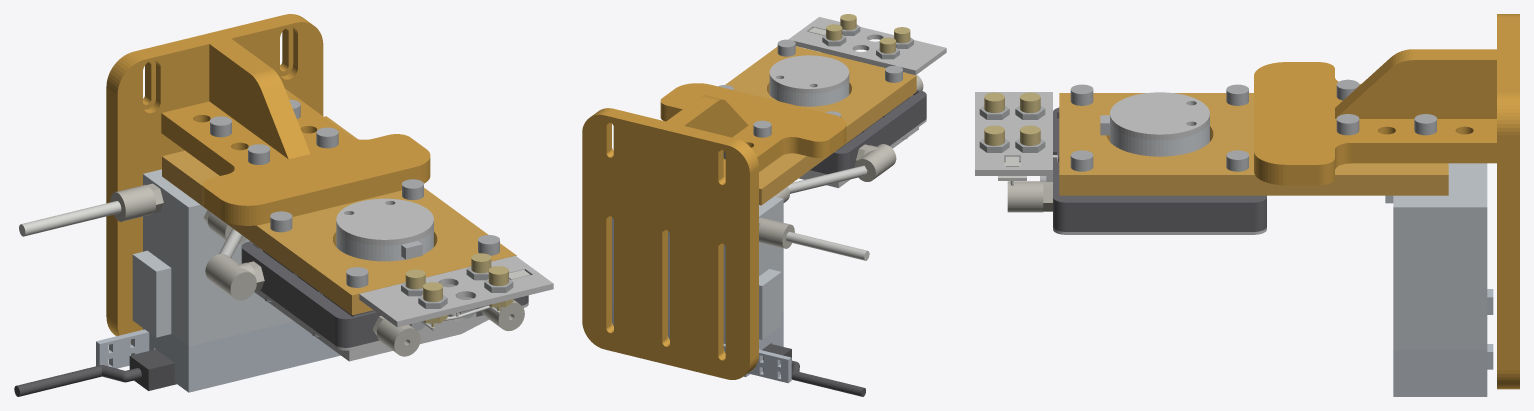
Rendered from v48_single.glb.
3 renders of one model, left to right at view 1: azimuth 30°, elevation 25°; view 2: azimuth 150°, elevation 25°; view 3: azimuth 270°, elevation 25°, orthographic. The views are drawn at different scales.
Parts seen in each view (by area): view 1: Grace 2025 앵글 브래킷 "angle bracket for Ramen holder.STEP" (형상 , [배기 블록 v2] 배기 센서 블록 본체 PETG 60x29x48.5 (가스 몸 17.5 + 센서 칸 31,, Grace 새 세로판 60x120x7 (재출력, 레진 가정), Ø4.5 x4 48x48, 가운데 Ø33 구멍, [배기 블록 v2] 덮개 PETG 60x29x16 (판 2 + Pico 트레이 14): Pico 보스 4, , 커넥터 브래킷 Al (밑판 26x18x2 + 판 57x24x2): SMA 구멍 Ø6.5 x6 (3열 x 2행, 셀 몸체 Al 6061 흑색 아노다이징 70x66x10 R4 (포켓 31x31x4.5 R1.5, 블록 자리 , 퍽 Al 방열 원판 Ø30.8x2 (가정, PETG 벽 끝에 2액형 에폭시), 나사 공구 구멍 Ø3.2 x2, [배기 블록 v2] USB 케이블 (노트북으로, 타이로 선반에 고정; 노트북은 허치 안 가능), 가스 KQ2H04-M5 x2 윗면 (+X 입구, −X 예비 N2/He), Ø2 → 앞면 (±19, +22), 텐트 틀 Al: 플랜지 1.0 (몸체 외곽, 안쪽 X -28.5…24.9, Z ±28.5) + 벽 2.5, , 가스 KQ2L04-M5 엘보 −X 옆면 출구 (Y 4.5, Z -20, 관 포트 아래로; 외형 가정), Ø2, SMA 암 판넬 잭 x4 (SAMZO SMA-KY-214형, 가정): 육각 어깨 AF 8 x 3 (판 앞), (+6 smaller); view 2: Grace 2025 앵글 브래킷 "angle bracket for Ramen holder.STEP" (형상 , Grace 새 세로판 60x120x7 (재출력, 레진 가정), Ø4.5 x4 48x48, 가운데 Ø33 구멍, 커넥터 브래킷 Al (밑판 26x18x2 + 판 57x24x2): SMA 구멍 Ø6.5 x6 (3열 x 2행, [배기 블록 v2] 배기 센서 블록 본체 PETG 60x29x48.5 (가스 몸 17.5 + 센서 칸 31,, 셀 몸체 Al 6061 흑색 아노다이징 70x66x10 R4 (포켓 31x31x4.5 R1.5, 블록 자리 , 퍽 Al 방열 원판 Ø30.8x2 (가정, PETG 벽 끝에 2액형 에폭시), 나사 공구 구멍 Ø3.2 x2, [배기 블록 v2] 덮개 PETG 60x29x16 (판 2 + Pico 트레이 14): Pico 보스 4, , 뒤 빛 퍽 PETG Ø30.8 (앞 플랜지 2 = 앞 턱 0.5 (Ø19) + 뒤 자리 Ø20.4x1.5, , [배기 블록 v2] USB 케이블 (노트북으로, 타이로 선반에 고정; 노트북은 허치 안 가능), 가스 KQ2L04-M5 엘보 −X 옆면 출구 (Y 4.5, Z -20, 관 포트 아래로; 외형 가정), Ø2, SMA 암 판넬 잭 x4 (SAMZO SMA-KY-214형, 가정): 육각 어깨 AF 8 x 3 (판 앞),, [배기 블록 v2] 배출 PU 관 Ø4 (토막만 그림, 실제 >= 300 mm) (+6 smaller); view 3: Grace 2025 앵글 브래킷 "angle bracket for Ramen holder.STEP" (형상 , Grace 새 세로판 60x120x7 (재출력, 레진 가정), Ø4.5 x4 48x48, 가운데 Ø33 구멍, [배기 블록 v2] 배기 센서 블록 본체 PETG 60x29x48.5 (가스 몸 17.5 + 센서 칸 31,, 셀 몸체 Al 6061 흑색 아노다이징 70x66x10 R4 (포켓 31x31x4.5 R1.5, 블록 자리 , [배기 블록 v2] 덮개 PETG 60x29x16 (판 2 + Pico 트레이 14): Pico 보스 4, , 커넥터 브래킷 Al (밑판 26x18x2 + 판 57x24x2): SMA 구멍 Ø6.5 x6 (3열 x 2행, 퍽 Al 방열 원판 Ø30.8x2 (가정, PETG 벽 끝에 2액형 에폭시), 나사 공구 구멍 Ø3.2 x2, M4x12 렌치볼트 x4 (판 뒤에서 몸체 M4 탭으로, 머리 Ø7x4), 뒤 빛 퍽 PETG Ø30.8 (앞 플랜지 2 = 앞 턱 0.5 (Ø19) + 뒤 자리 Ø20.4x1.5, , SMA 암 판넬 잭 x4 (SAMZO SMA-KY-214형, 가정): 육각 어깨 AF 8 x 3 (판 앞),, 가스 KQ2H04-M5 x2 윗면 (+X 입구, −X 예비 N2/He), Ø2 → 앞면 (±19, +22), M4x16 볼트 + 너트 x4 (판 아래 구멍 ↔ 브래킷 세움판 Ø5.6 구멍 y 29/53) (+2 smaller).
Boxes of the visible parts, bbox=[...] form: Grace 2025 앵글 브래킷 "angle bracket for Ramen holder.STEP" (형상 : bbox=[106, 14, 430, 343]; [배기 블록 v2] 배기 센서 블록 본체 PETG 60x29x48.5 (가스 몸 17.5 + 센서 칸 31,: bbox=[132, 169, 293, 346]; Grace 새 세로판 60x120x7 (재출력, 레진 가정), Ø4.5 x4 48x48, 가운데 Ø33 구멍: bbox=[162, 116, 516, 315]; [배기 블록 v2] 덮개 PETG 60x29x16 (판 2 + Pico 트레이 14): Pico 보스 4, : bbox=[96, 321, 340, 392]; 커넥터 브래킷 Al (밑판 26x18x2 + 판 57x24x2): SMA 구멍 Ø6.5 x6 (3열 x 2행: bbox=[359, 255, 553, 333]; 셀 몸체 Al 6061 흑색 아노다이징 70x66x10 R4 (포켓 31x31x4.5 R1.5, 블록 자리 : bbox=[241, 241, 528, 347]; 퍽 Al 방열 원판 Ø30.8x2 (가정, PETG 벽 끝에 2액형 에폭시), 나사 공구 구멍 Ø3.2 x2: bbox=[336, 198, 433, 245]; [배기 블록 v2] USB 케이블 (노트북으로, 타이로 선반에 고정; 노트북은 허치 안 가능): bbox=[14, 349, 176, 396]; 가스 KQ2H04-M5 x2 윗면 (+X 입구, −X 예비 N2/He), Ø2 → 앞면 (±19, +22): bbox=[372, 299, 524, 356]; 텐트 틀 Al: 플랜지 1.0 (몸체 외곽, 안쪽 X -28.5…24.9, Z ±28.5) + 벽 2.5, : bbox=[254, 290, 528, 361]; 가스 KQ2L04-M5 엘보 −X 옆면 출구 (Y 4.5, Z -20, 관 포트 아래로; 외형 가정), Ø2: bbox=[205, 254, 264, 300]; SMA 암 판넬 잭 x4 (SAMZO SMA-KY-214형, 가정): 육각 어깨 AF 8 x 3 (판 앞),: bbox=[405, 253, 513, 327]; Grace 2025 앵글 브래킷 "angle bracket for Ramen holder.STEP" (형상 : bbox=[582, 83, 846, 379]; Grace 새 세로판 60x120x7 (재출력, 레진 가정), Ø4.5 x4 48x48, 가운데 Ø33 구멍: bbox=[725, 46, 916, 205]; 커넥터 브래킷 Al (밑판 26x18x2 + 판 57x24x2): SMA 구멍 Ø6.5 x6 (3열 x 2행: bbox=[788, 17, 946, 75]; [배기 블록 v2] 배기 센서 블록 본체 PETG 60x29x48.5 (가스 몸 17.5 + 센서 칸 31,: bbox=[612, 196, 783, 339]; 셀 몸체 Al 6061 흑색 아노다이징 70x66x10 R4 (포켓 31x31x4.5 R1.5, 블록 자리 : bbox=[810, 89, 926, 174]; 퍽 Al 방열 원판 Ø30.8x2 (가정, PETG 벽 끝에 2액형 에폭시), 나사 공구 구멍 Ø3.2 x2: bbox=[769, 55, 849, 93]; [배기 블록 v2] 덮개 PETG 60x29x16 (판 2 + Pico 트레이 14): Pico 보스 4, : bbox=[612, 307, 791, 383]; 뒤 빛 퍽 PETG Ø30.8 (앞 플랜지 2 = 앞 턱 0.5 (Ø19) + 뒤 자리 Ø20.4x1.5, : bbox=[769, 78, 849, 106]; [배기 블록 v2] USB 케이블 (노트북으로, 타이로 선반에 고정; 노트북은 허치 안 가능): bbox=[762, 344, 865, 396]; 가스 KQ2L04-M5 엘보 −X 옆면 출구 (Y 4.5, Z -20, 관 포트 아래로; 외형 가정), Ø2: bbox=[854, 144, 896, 181]; SMA 암 판넬 잭 x4 (SAMZO SMA-KY-214형, 가정): 육각 어깨 AF 8 x 3 (판 앞),: bbox=[826, 14, 910, 67]; [배기 블록 v2] 배출 PU 관 Ø4 (토막만 그림, 실제 >= 300 mm): bbox=[786, 231, 869, 260]; Grace 2025 앵글 브래킷 "angle bracket for Ramen holder.STEP" (형상 : bbox=[1254, 14, 1519, 389]; Grace 새 세로판 60x120x7 (재출력, 레진 가정), Ø4.5 x4 48x48, 가운데 Ø33 구멍: bbox=[1059, 93, 1448, 195]; [배기 블록 v2] 배기 센서 블록 본체 PETG 60x29x48.5 (가스 몸 17.5 + 센서 칸 31,: bbox=[1385, 163, 1487, 349]; 셀 몸체 Al 6061 흑색 아노다이징 70x66x10 R4 (포켓 31x31x4.5 R1.5, 블록 자리 : bbox=[1053, 107, 1266, 231]; [배기 블록 v2] 덮개 PETG 60x29x16 (판 2 + Pico 트레이 14): Pico 보스 4, : bbox=[1393, 289, 1493, 396]; 커넥터 브래킷 Al (밑판 26x18x2 + 판 57x24x2): SMA 구멍 Ø6.5 x6 (3열 x 2행: bbox=[975, 92, 1052, 181]; 퍽 Al 방열 원판 Ø30.8x2 (가정, PETG 벽 끝에 2액형 에폭시), 나사 공구 구멍 Ø3.2 x2: bbox=[1110, 92, 1209, 140]; M4x12 렌치볼트 x4 (판 뒤에서 몸체 M4 탭으로, 머리 Ø7x4): bbox=[1070, 84, 1248, 171]; 뒤 빛 퍽 PETG Ø30.8 (앞 플랜지 2 = 앞 턱 0.5 (Ø19) + 뒤 자리 Ø20.4x1.5, : bbox=[1110, 120, 1209, 156]; SMA 암 판넬 잭 x4 (SAMZO SMA-KY-214형, 가정): 육각 어깨 AF 8 x 3 (판 앞),: bbox=[984, 92, 1040, 162]; 가스 KQ2H04-M5 x2 윗면 (+X 입구, −X 예비 N2/He), Ø2 → 앞면 (±19, +22): bbox=[1007, 181, 1052, 212]; M4x16 볼트 + 너트 x4 (판 아래 구멍 ↔ 브래킷 세움판 Ø5.6 구멍 y 29/53): bbox=[1336, 79, 1436, 135].
Size of the model in its own units: 117 by 104 by 168.
